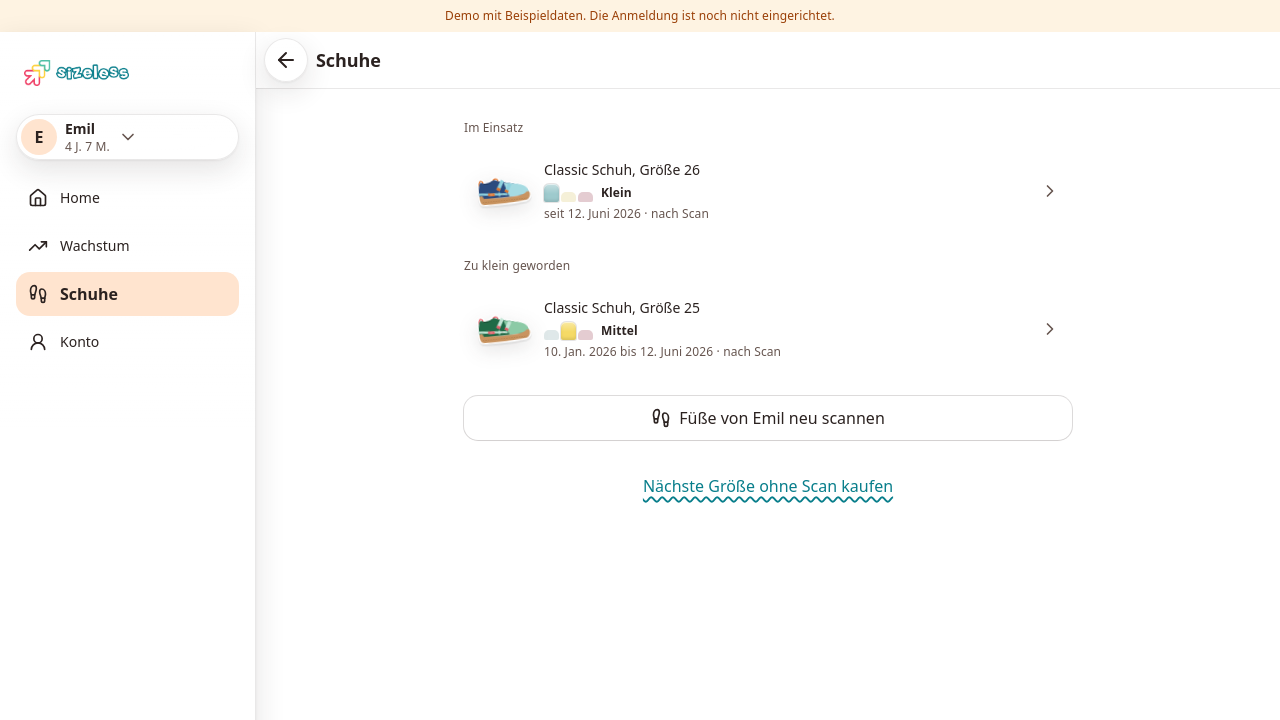
Test: Shoes (S16) › opens the detail of the pair in use, still with its size
Click the link "Classic Schuh, Größe 26 Klein seit 12. Juni 2026 · nach Scan" at (504, 191), box [464,148,1072,234]
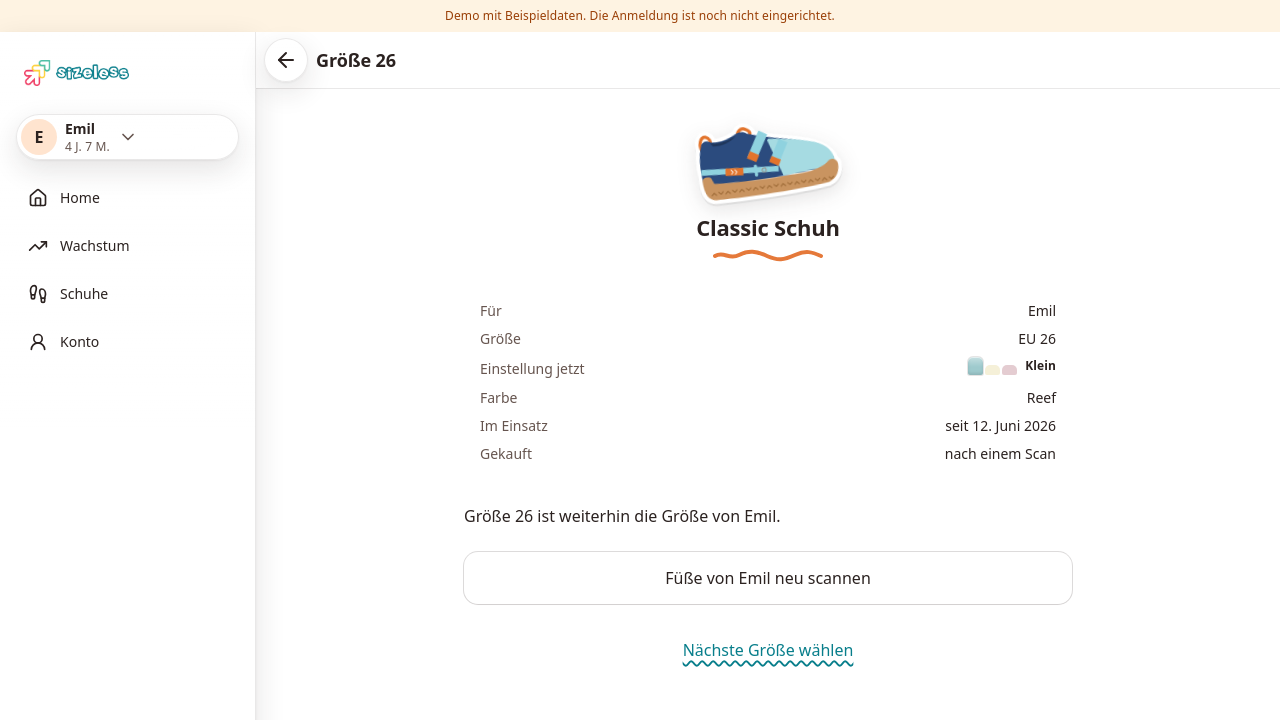
Expected: the link "Füße von Emil neu scannen" is shown, [464,552,1072,604]
Result: the text "Größe 26 ist weiterhin die Größe von Emil." is shown at [464,505,781,527]
